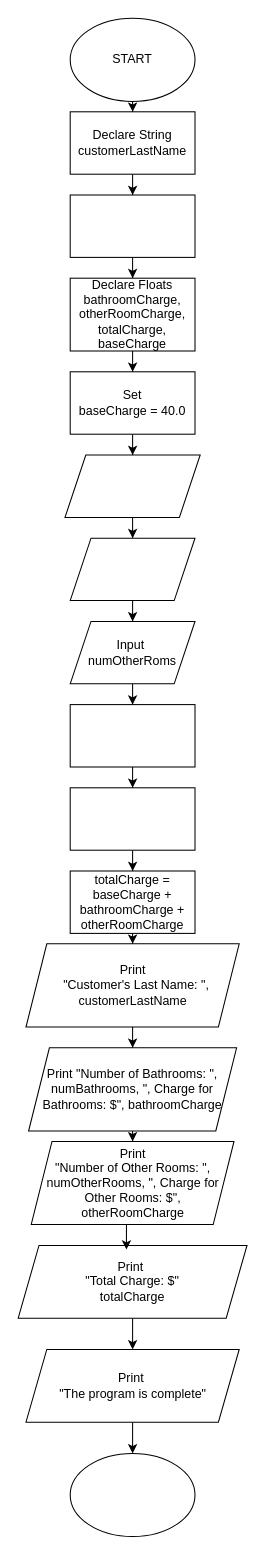
Some shapes in this 265 by 1555 pixel diagram are drawn without their labels. Here are the shapes that lost their labels. From the top down, the centre of each, then its label:
At (132,225): "Declare Integer numBathrooms, numOtherRooms".
At (132,485): "Input customerLastName".
At (132,569): "Input numBathrooms".
At (132,735): "bathroomCharge = numBathrooms * 15.0".
At (132,818): "otherRoomCharges = numOtherRooms * 10.0".
At (132,1494): "END".
